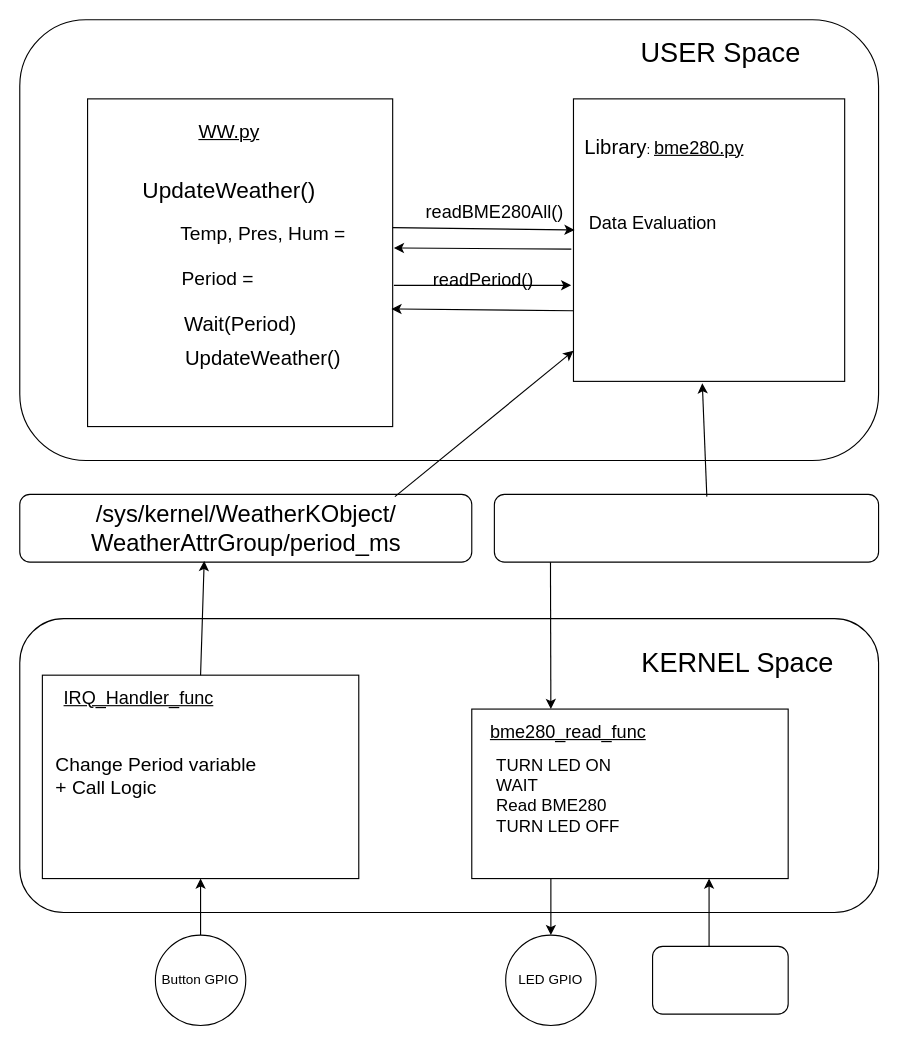
Image size: 898x1045. Some labels were removed from this diagram. The box of each missing label's shape, as (x1, y1, x2, y2) in pixels:
/dev/bme280: (493, 493, 879, 562)
BME280: (651, 945, 788, 1014)
